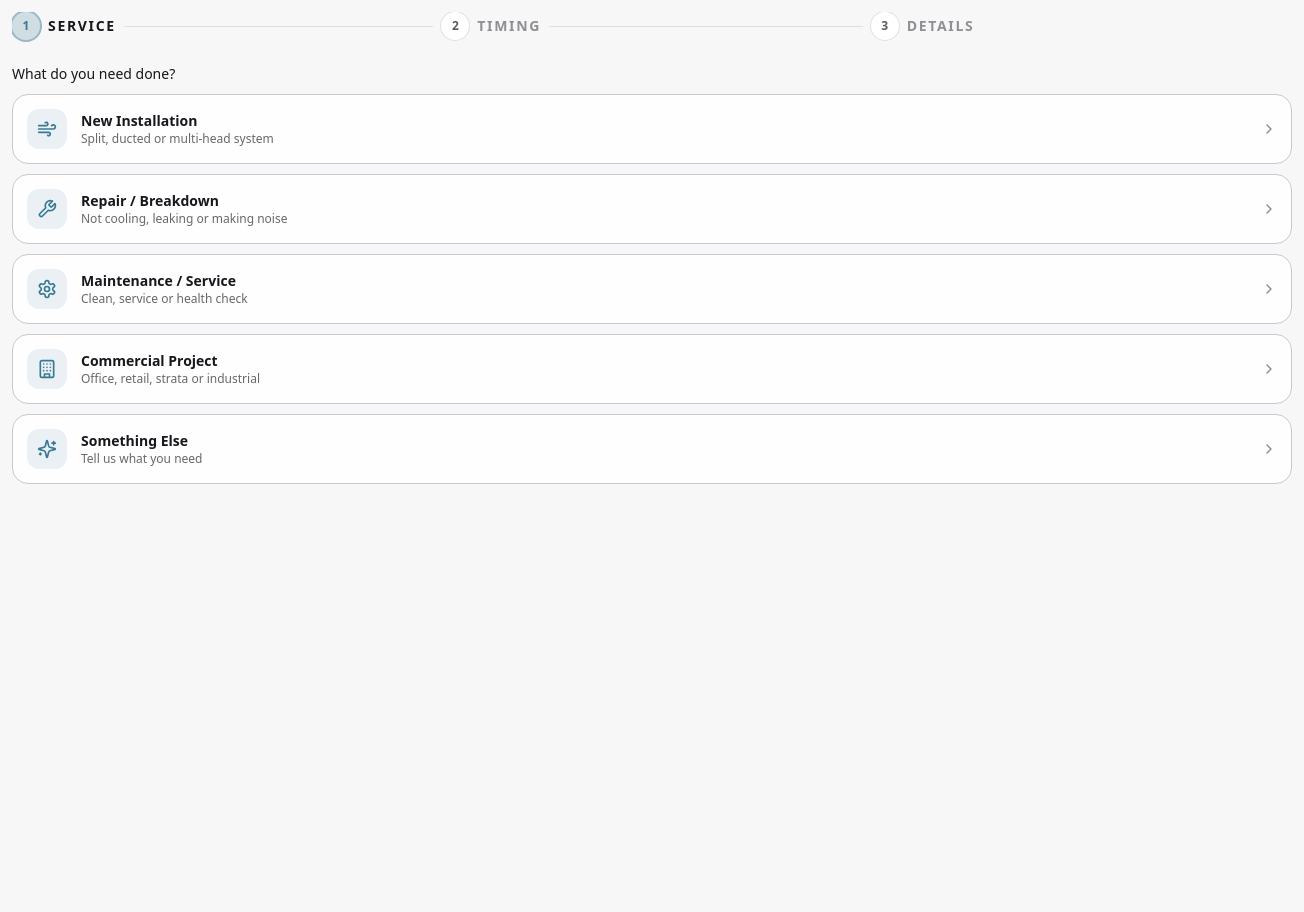
QuoteWizard › asks for the number when the phone field is left empty
Click the text "Repair / Breakdown": (150, 200) [81,191,219,210]
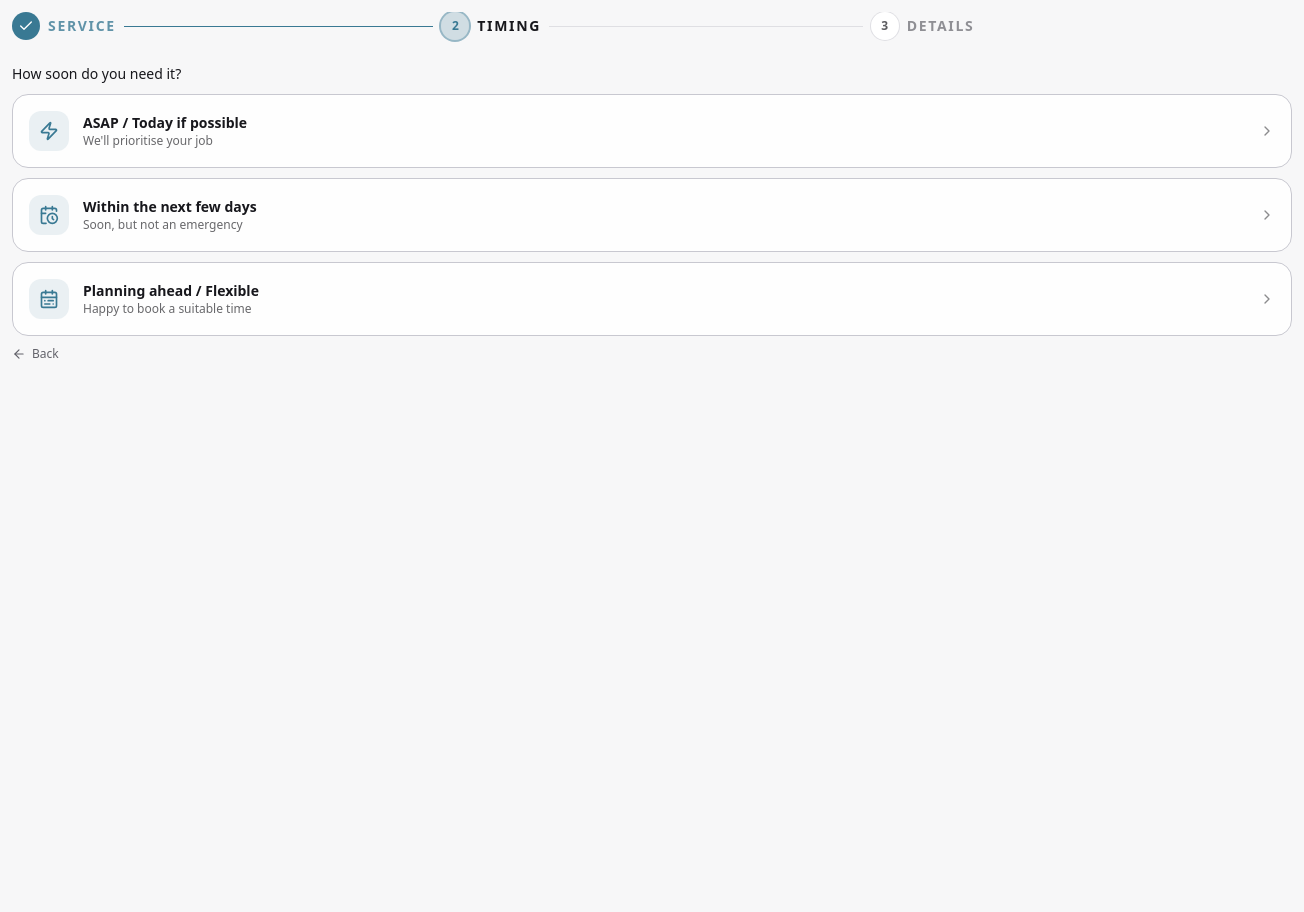
Click the text "ASAP / Today if possible": (165, 122) [83,113,247,132]
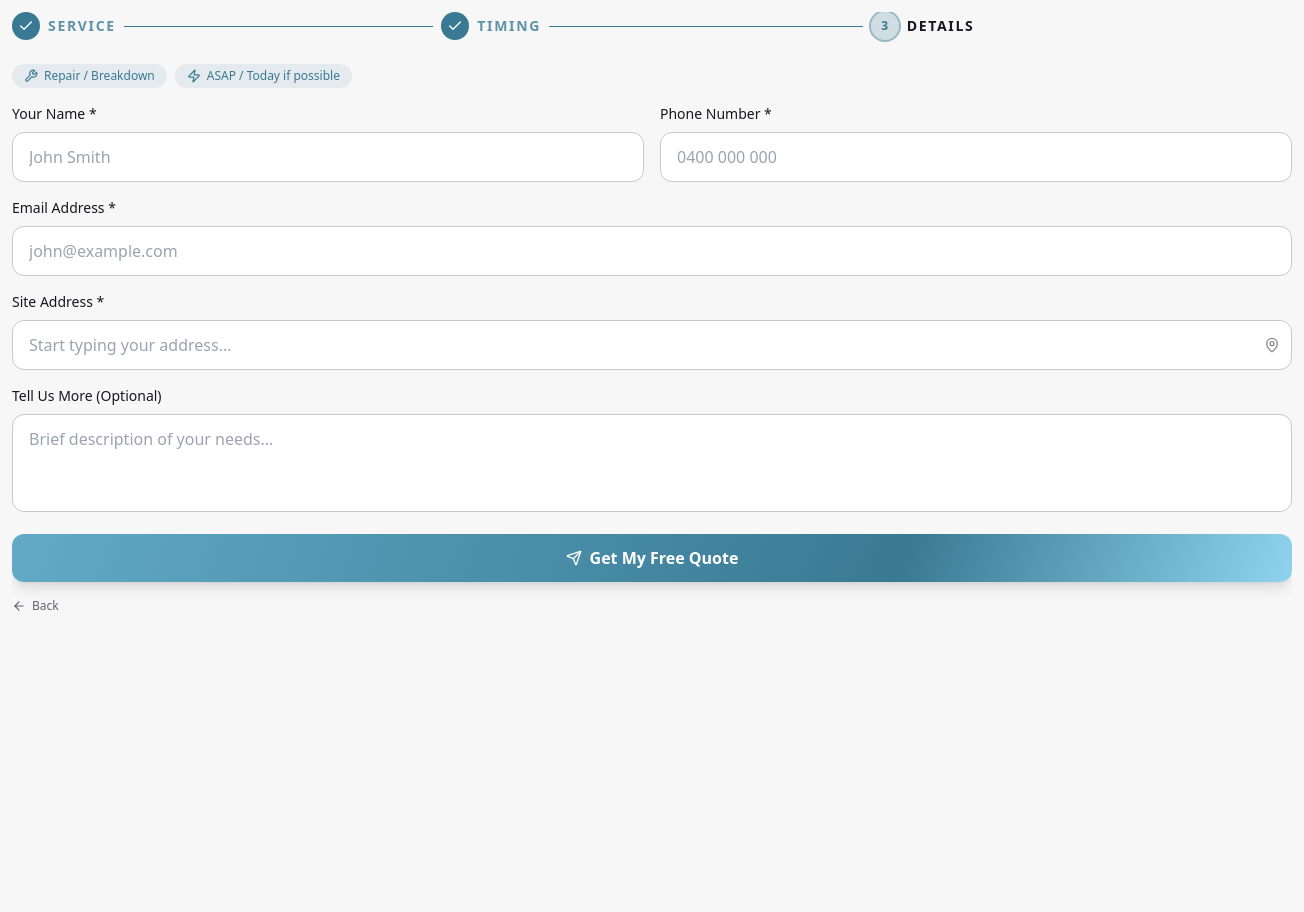
In the field labelled "Your Name *": (328, 157) [12,132,644,182], type "Dion Test"
In the field labelled "Email Address *": (652, 251) [12,226,1292,276], type "dion@example.com"
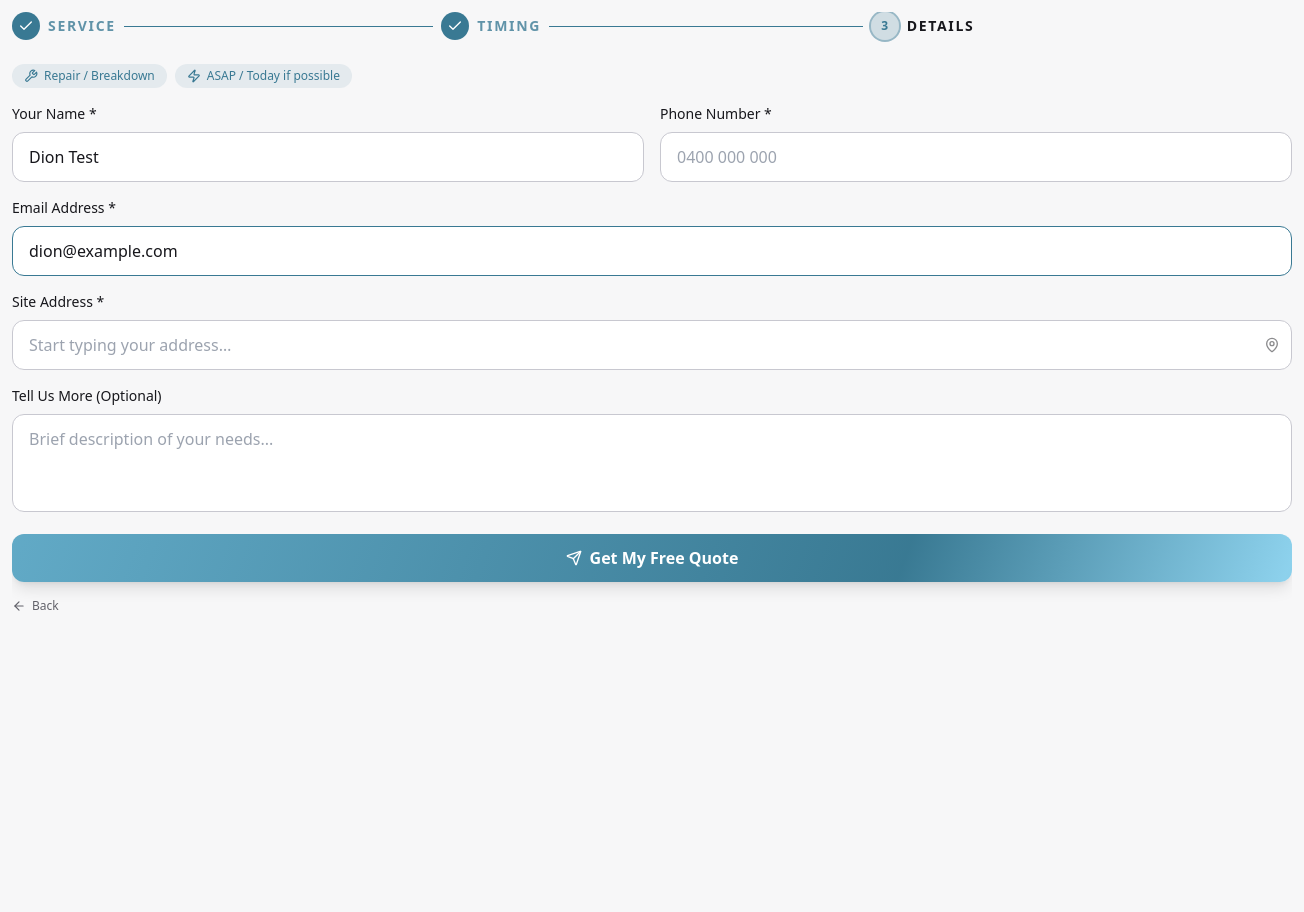
In the dropdown labelled "Site Address *": (652, 345) [12,320,1292,370], type "1 Martin Place, Sydney"
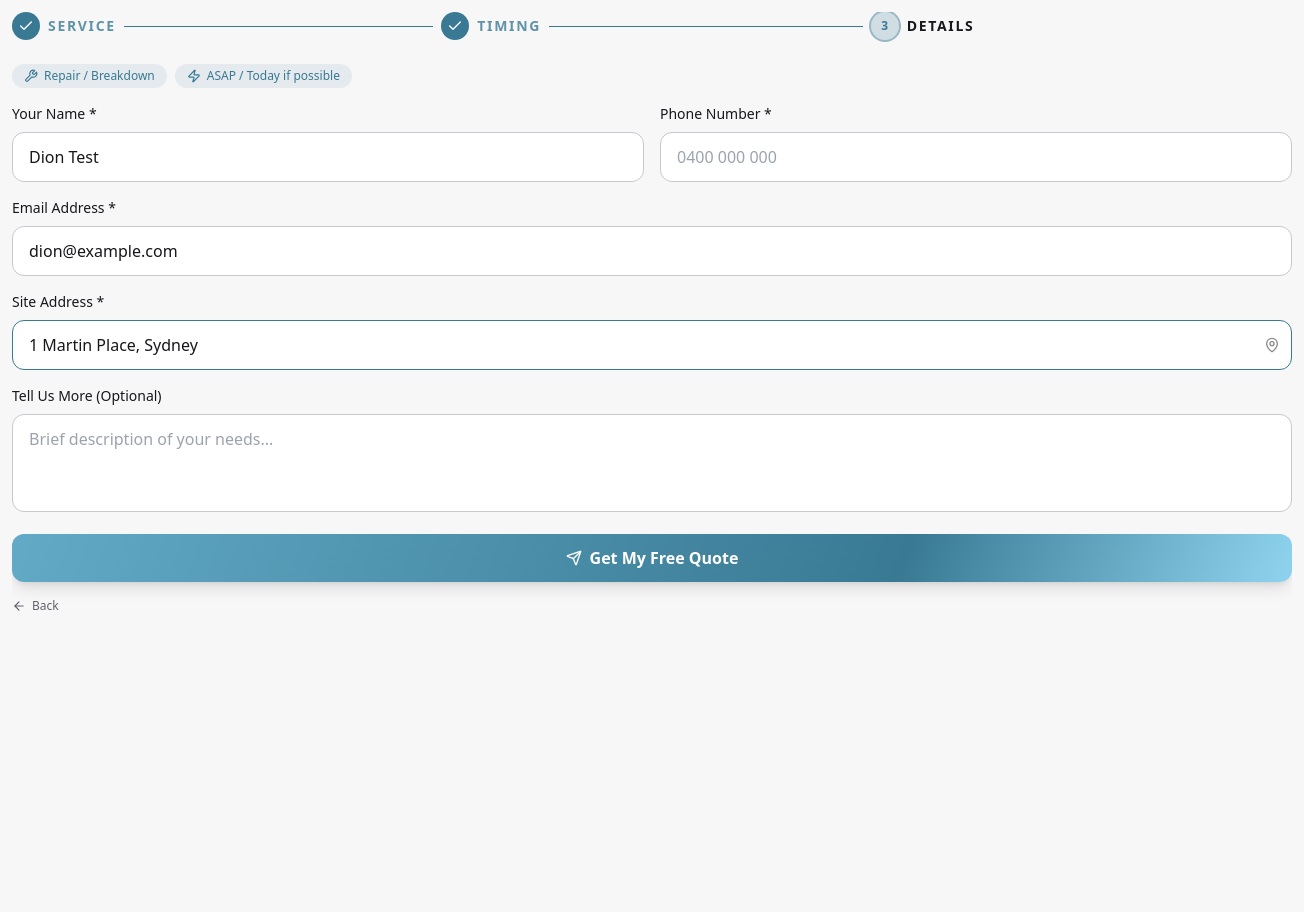
Click the button "Get My Free Quote": (652, 558) [12,534,1292,582]
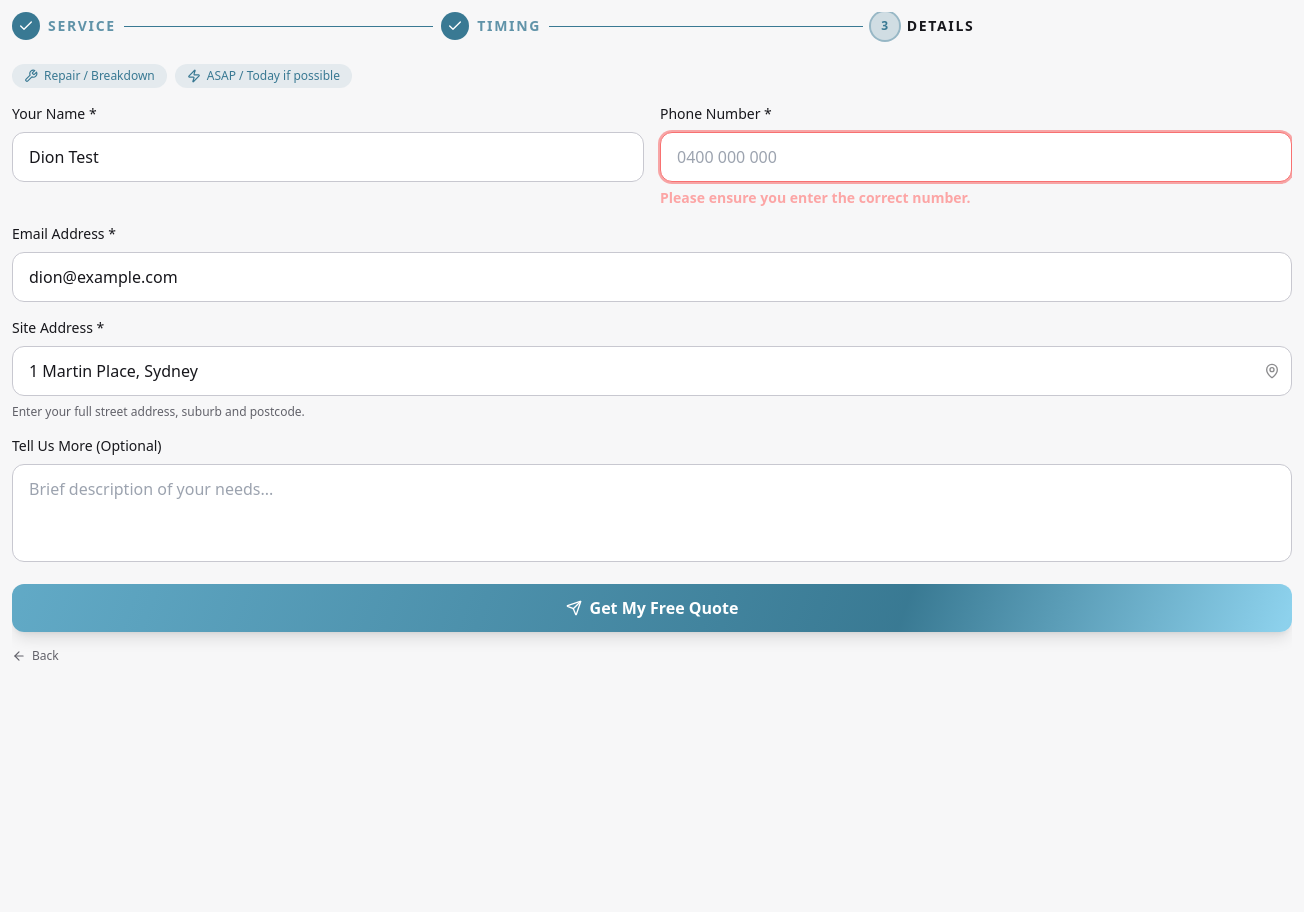
Result: the message reads "Please ensure you enter the correct number." at [660,188,970,207]
# Fixing it clears the message straight away.
In the field labelled "Phone Number *": (976, 157) [660,132,1292,182], type "0434308070"
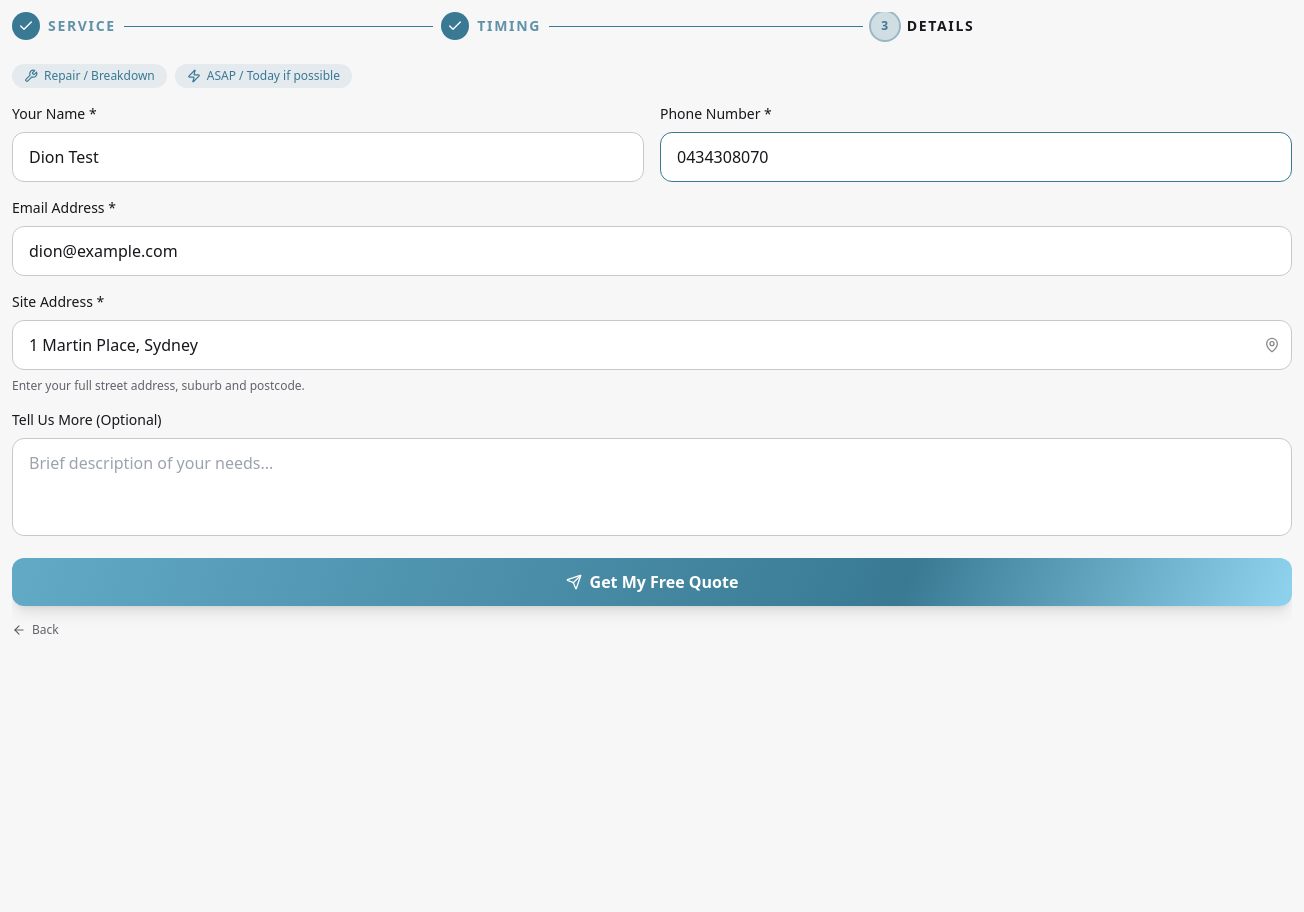
Result: the message "Please ensure you enter the correct number." is gone
